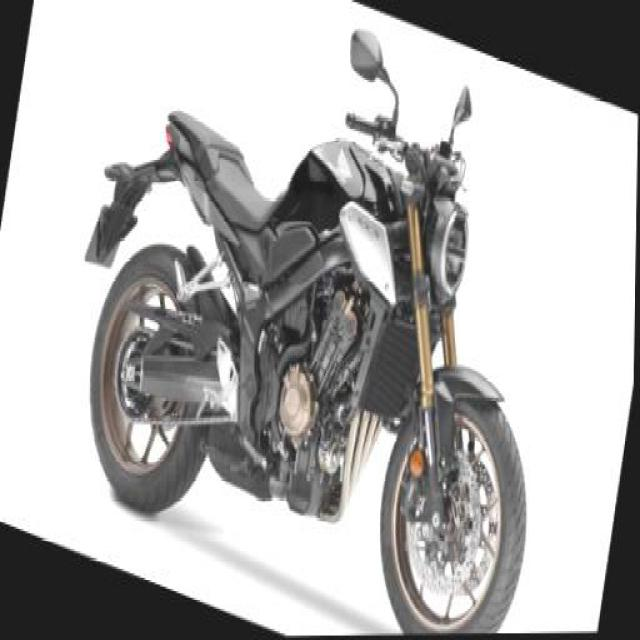CB650R: (63, 19, 581, 637)
